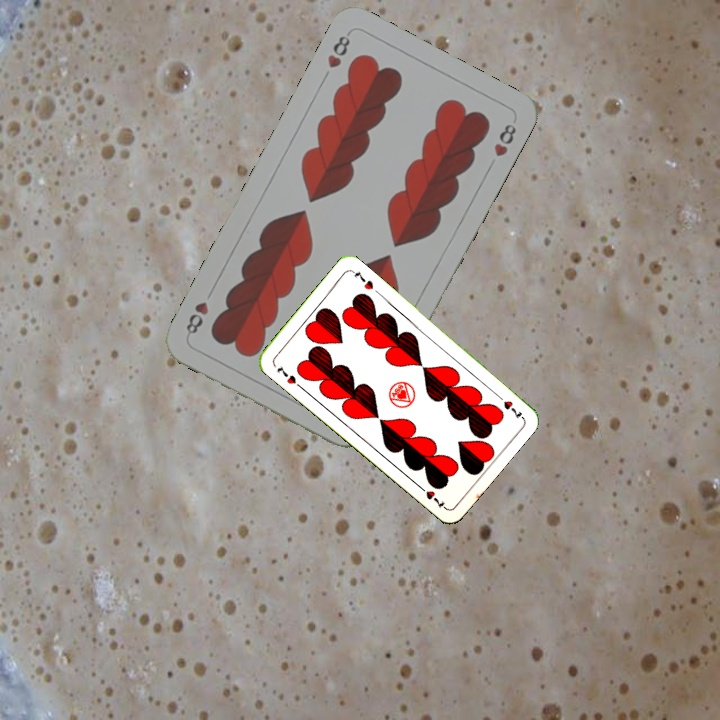H7: (492, 390, 525, 421), (272, 361, 299, 387)
H8: (323, 28, 353, 71)
